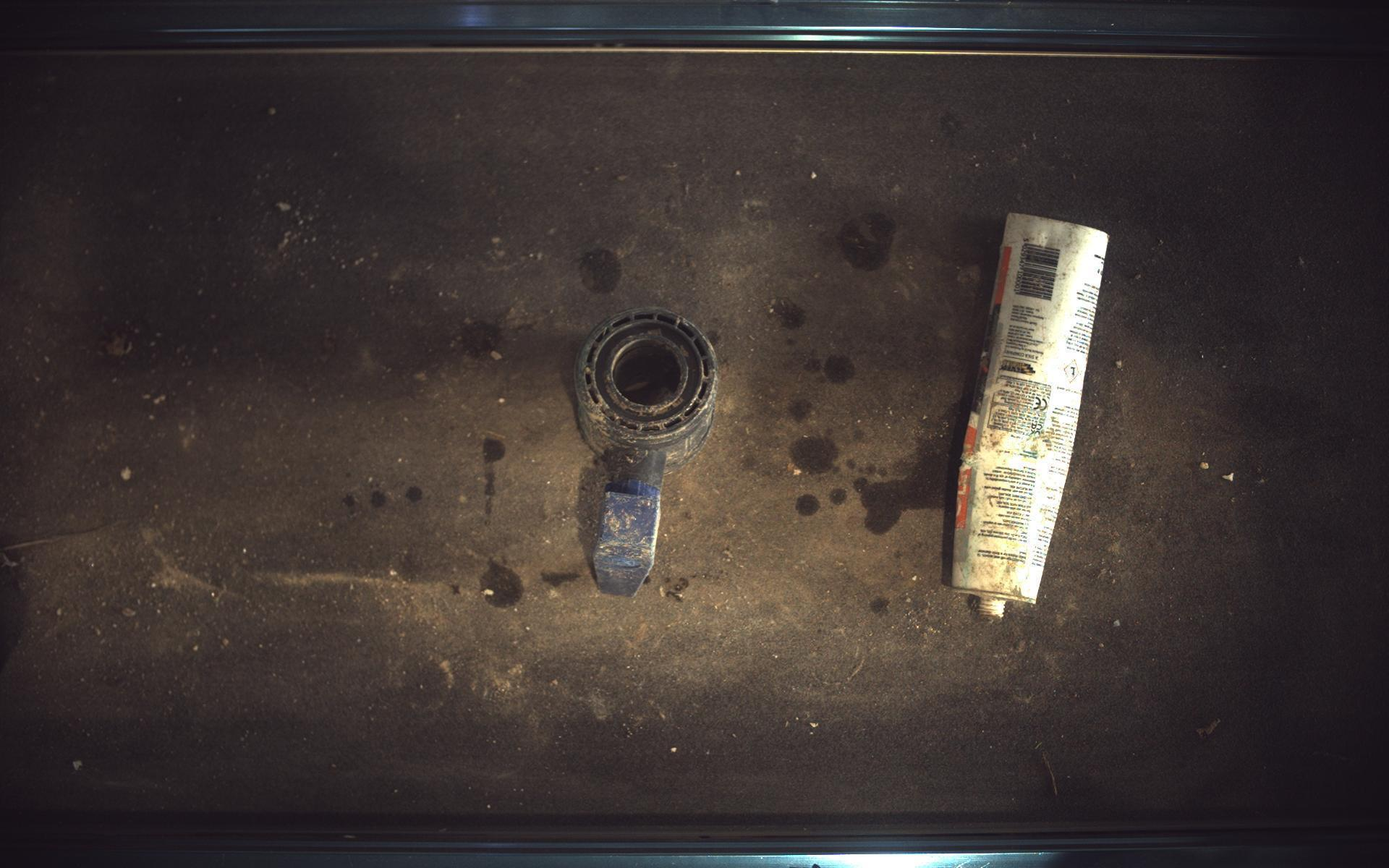plastic: (953, 212, 1111, 618), (575, 307, 719, 597)
